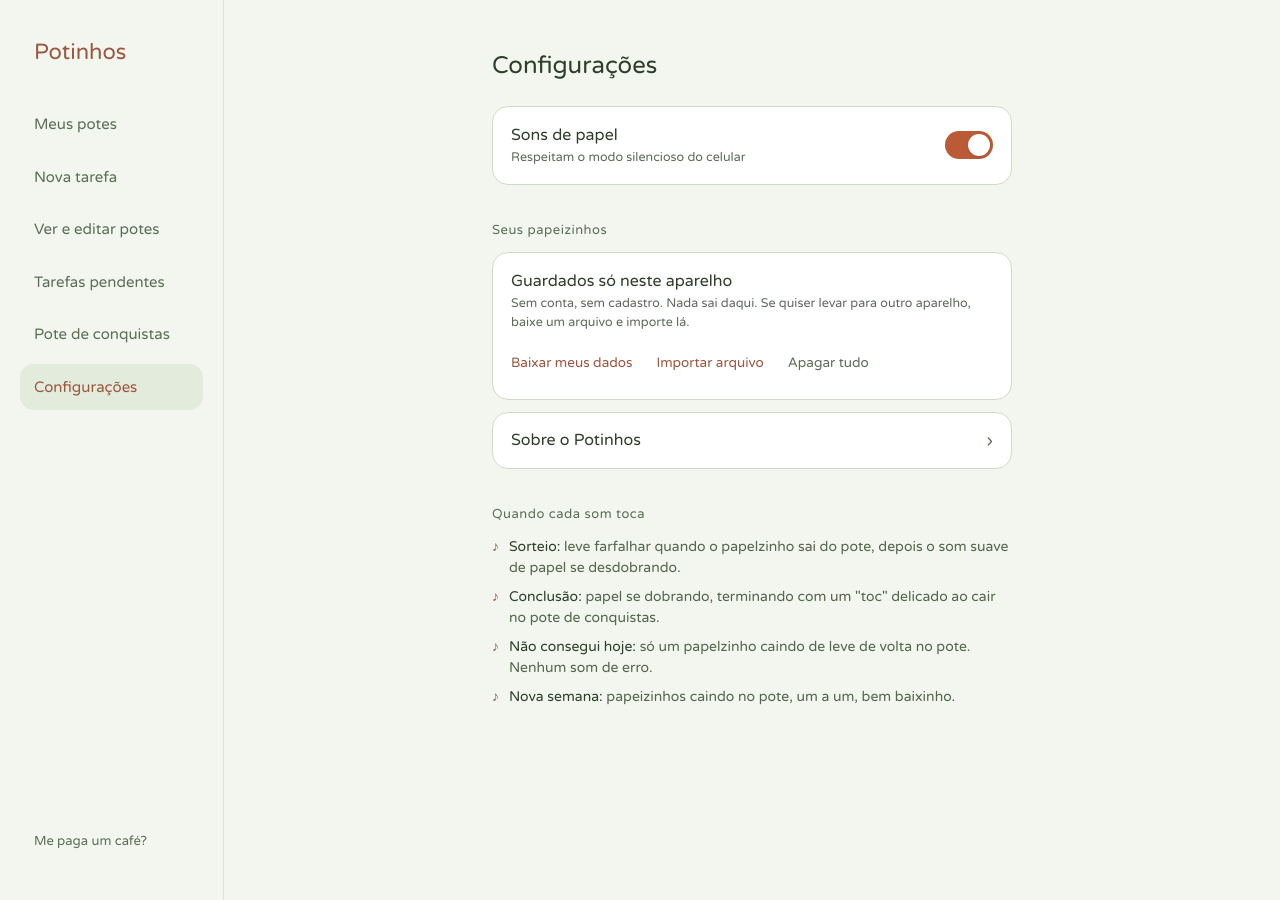
Test: Settings › deletes everything only after confirming
This screenshot has width=1280, height=900.
Expected: the heading "Configurações" is shown, left=492, top=51, right=657, bottom=80
Click the button "Apagar tudo": point(828, 363) left=778, top=343, right=879, bottom=383
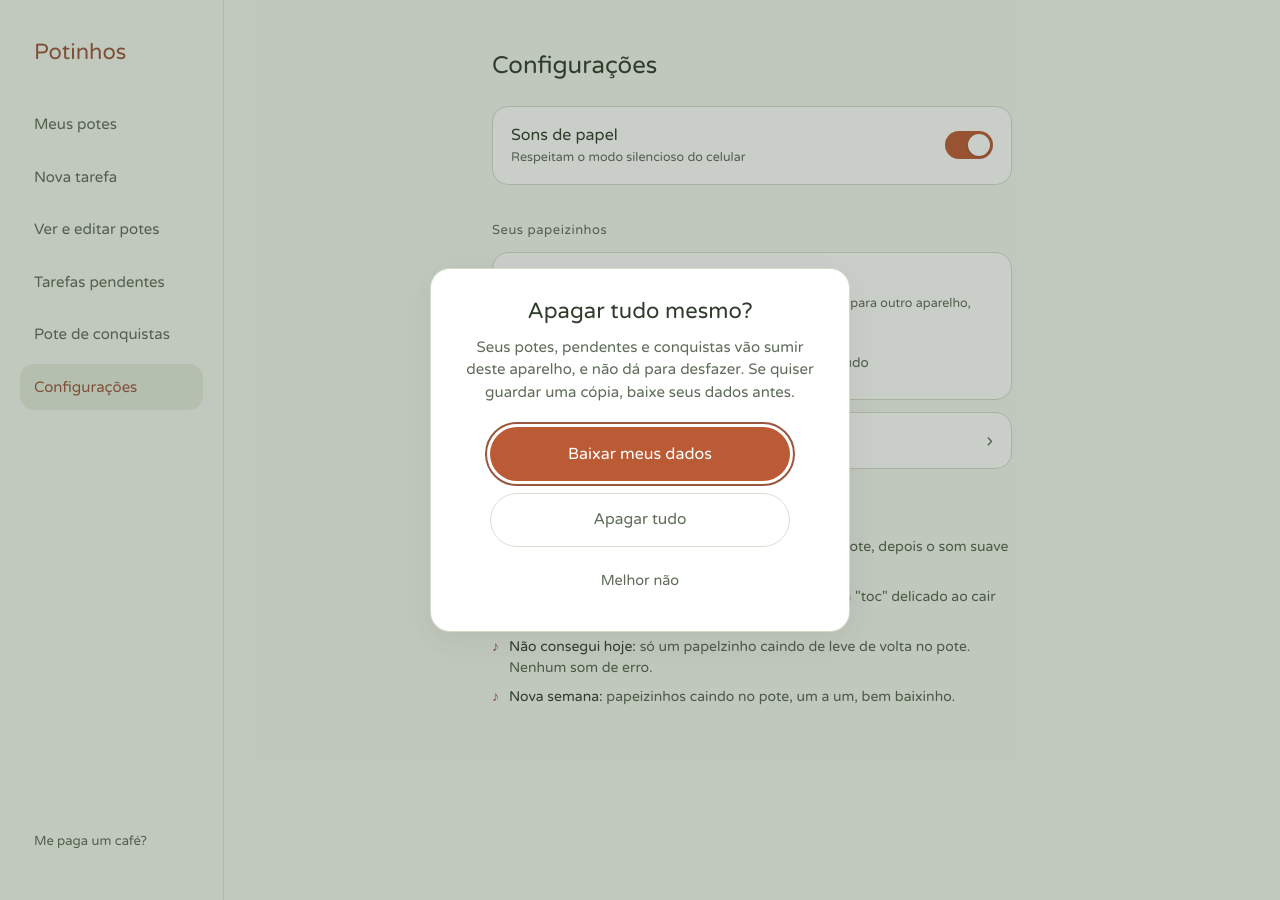
Now the dialog "Apagar tudo mesmo?" is shown, box left=430, top=268, right=850, bottom=632
Click the button "Melhor não": point(640, 581) left=589, top=559, right=691, bottom=603
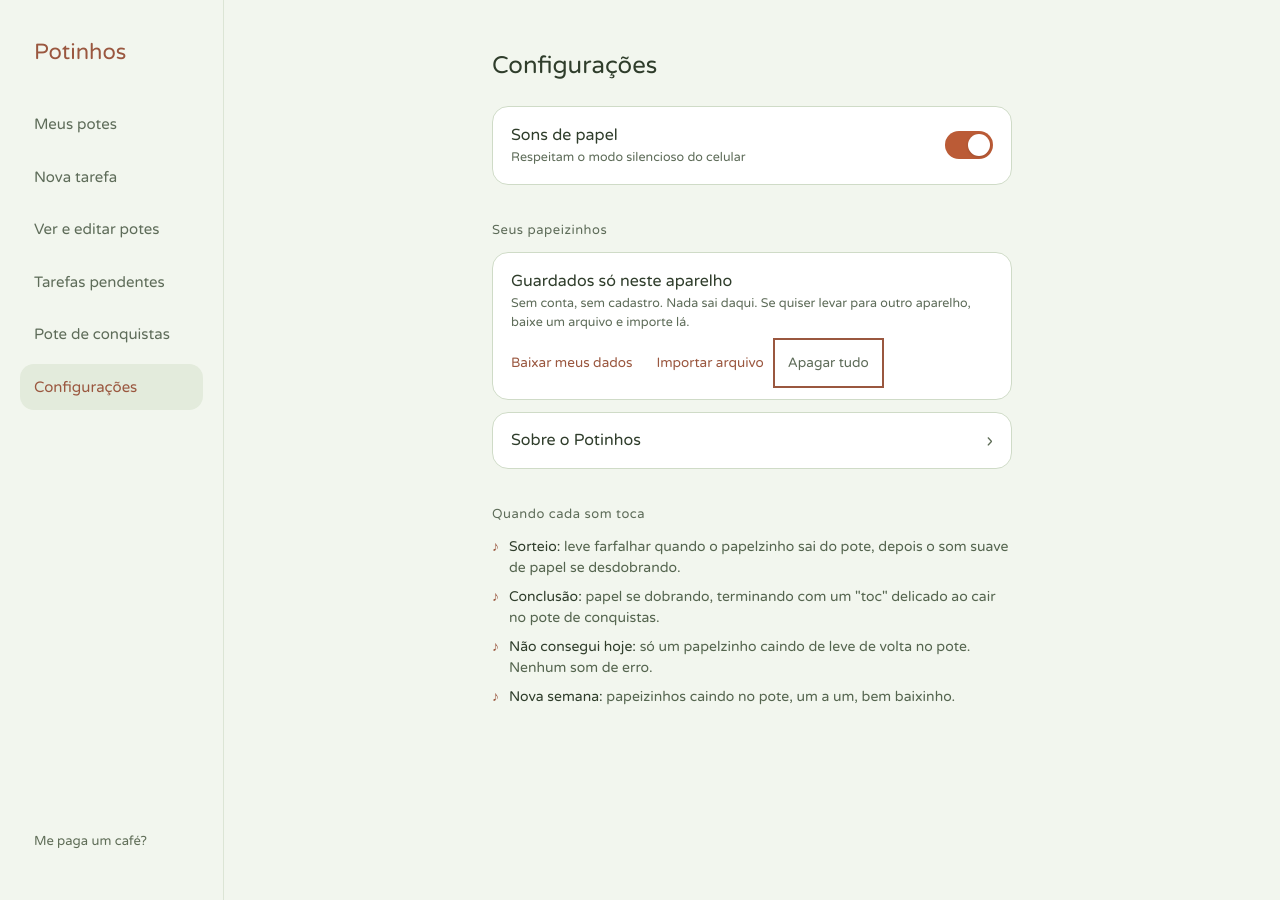
Click the button "Apagar tudo": point(828, 363) left=778, top=343, right=879, bottom=383
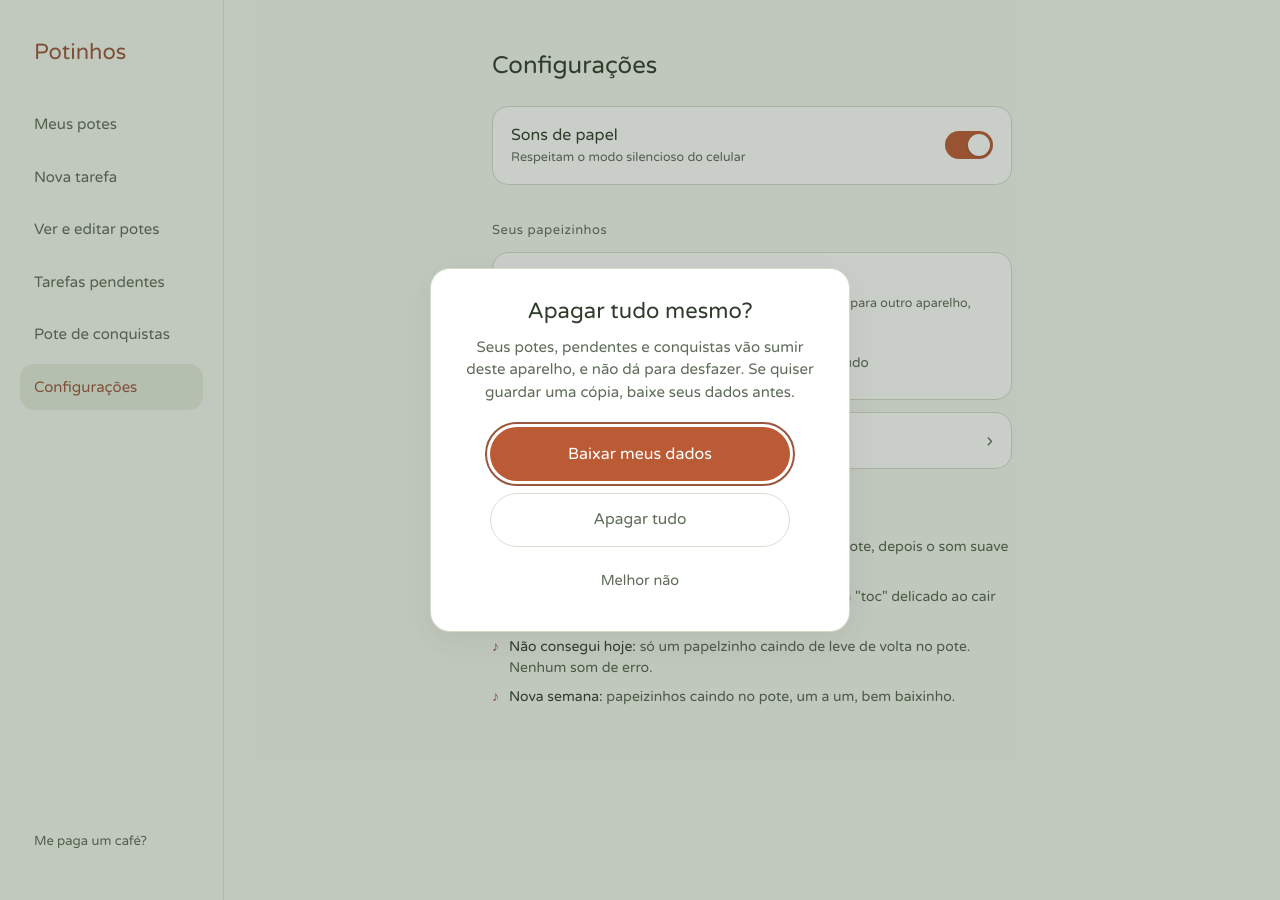
Click the button "Apagar tudo": point(640, 520) left=490, top=493, right=790, bottom=547
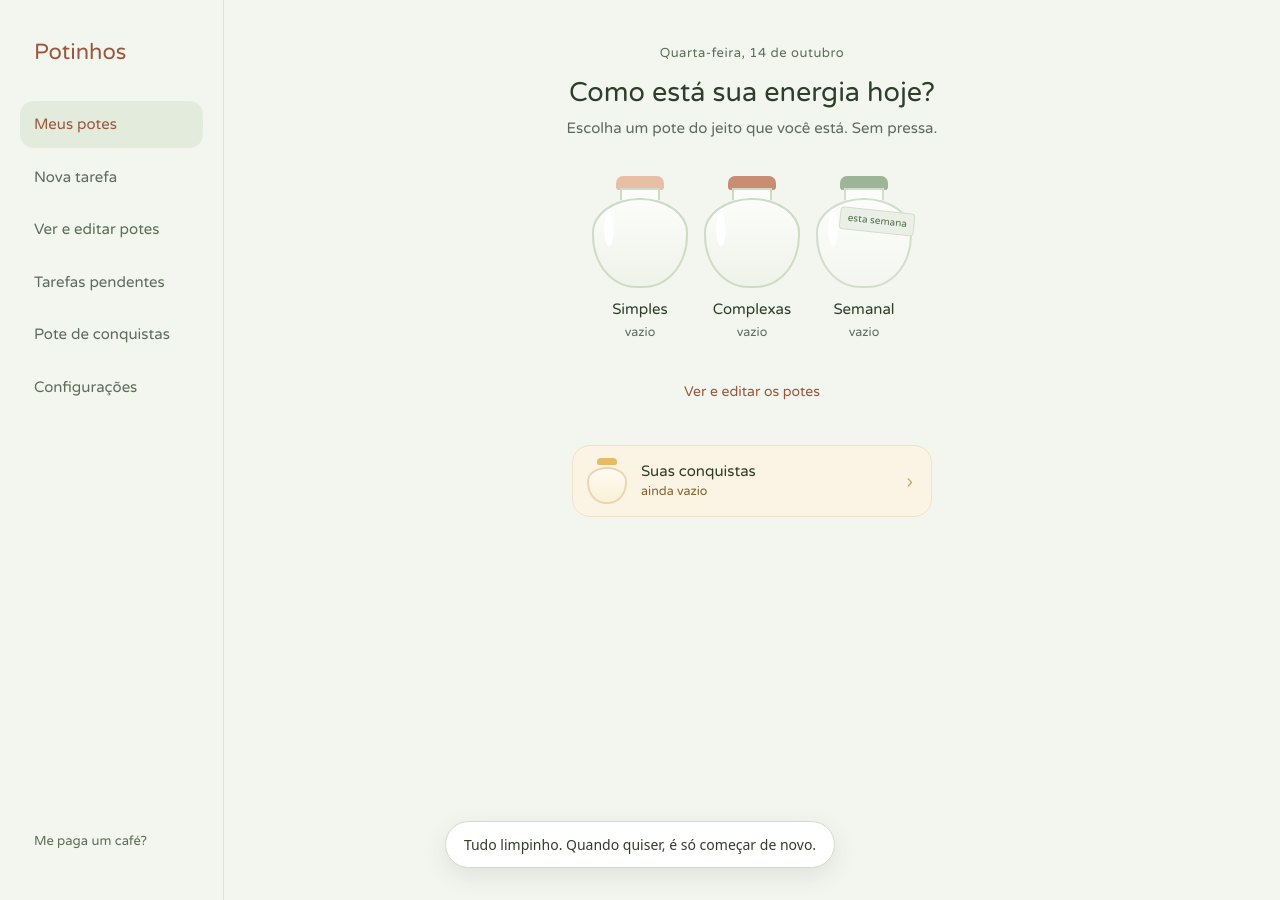
Now the text "Tudo limpinho. Quando quiser, é só começar de novo." is shown, box left=445, top=821, right=835, bottom=868
